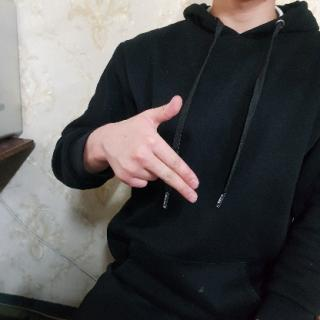GHAYN: (97, 92, 202, 208)
